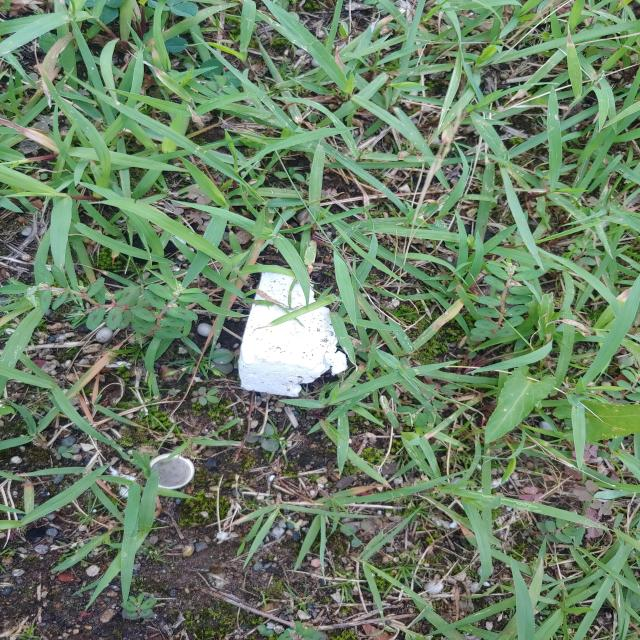litter: (227, 267, 366, 404)
